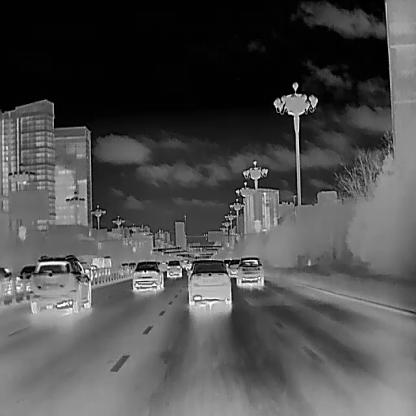car: (29, 254, 91, 314), (186, 258, 230, 305), (132, 259, 162, 293), (235, 257, 263, 287), (14, 266, 37, 292), (165, 259, 182, 277), (226, 258, 239, 276), (126, 262, 138, 278), (117, 262, 127, 276)
